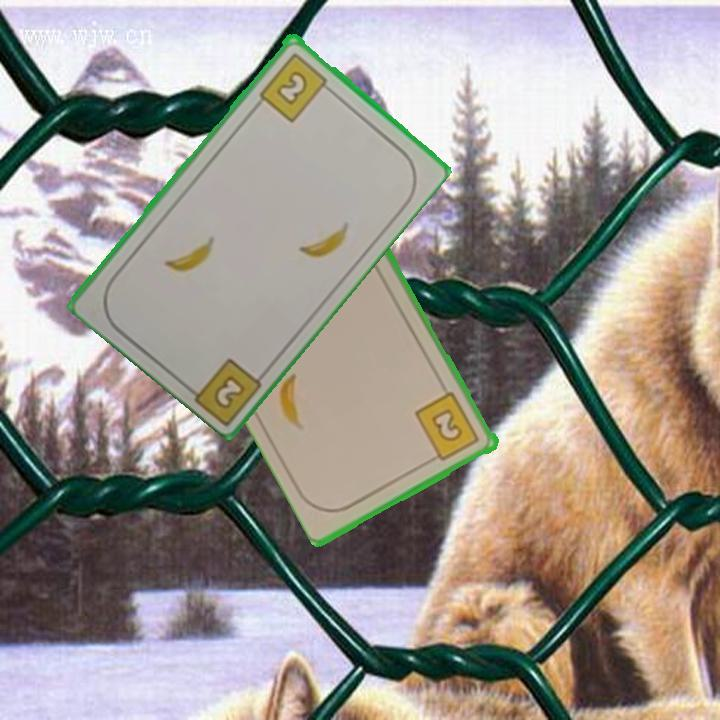2b: (255, 48, 336, 125), (412, 388, 483, 466), (209, 370, 248, 412)
